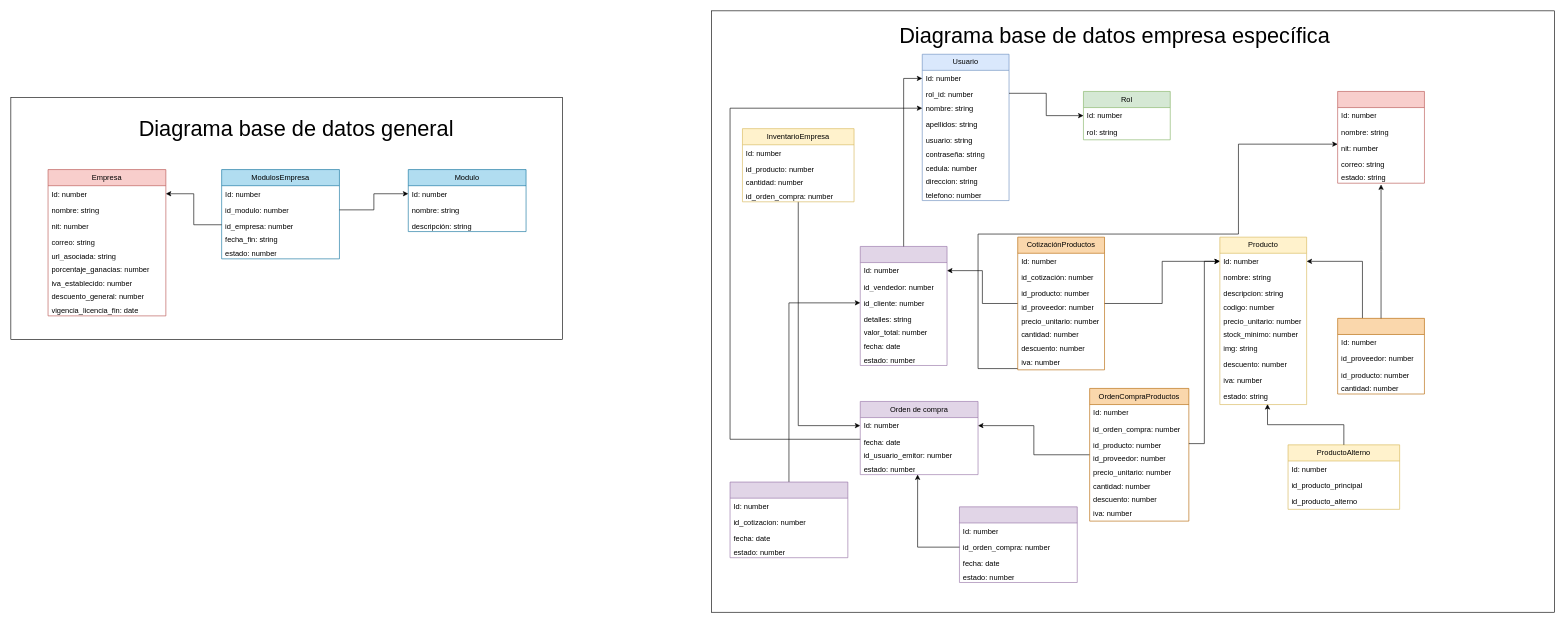
This 1566x623 diagram has some shape labels left out. The shapes that lost their labels are listed below. From the top down, each one's box as (x1, y1, x2, y2) in pixels, then its label:
(1337, 91, 1424, 183): Proveedor
(860, 246, 947, 365): Cotización
(1337, 318, 1424, 394): InventarioProveedor
(729, 481, 848, 558): FacturaCotización
(959, 506, 1077, 582): FacturaOrdenCompra
